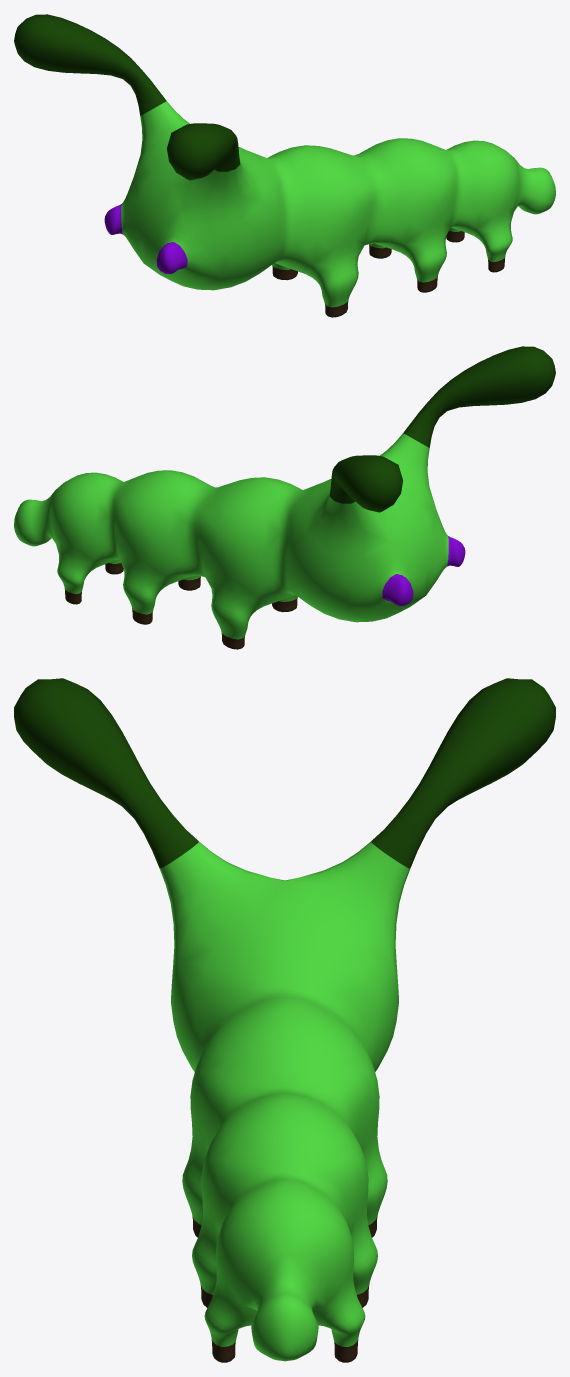
File: Caterpillar.fbx
3 views of the same model, one above another, from view 1: azimuth 30°, elevation 25°; view 2: azimuth 150°, elevation 25°; view 3: azimuth 270°, elevation 25° (orthographic). The views are drawn at different scales.
Visible parts, largest first — view 1: Caterpillar; view 2: Caterpillar; view 3: Caterpillar.
Boxes of the visible parts, x1,y1,x2,y2 form: Caterpillar: [14, 14, 555, 317]; Caterpillar: [14, 346, 555, 649]; Caterpillar: [14, 678, 555, 1362].
Bounding box in the file's own units: 100 × 55.91 × 66.97.
